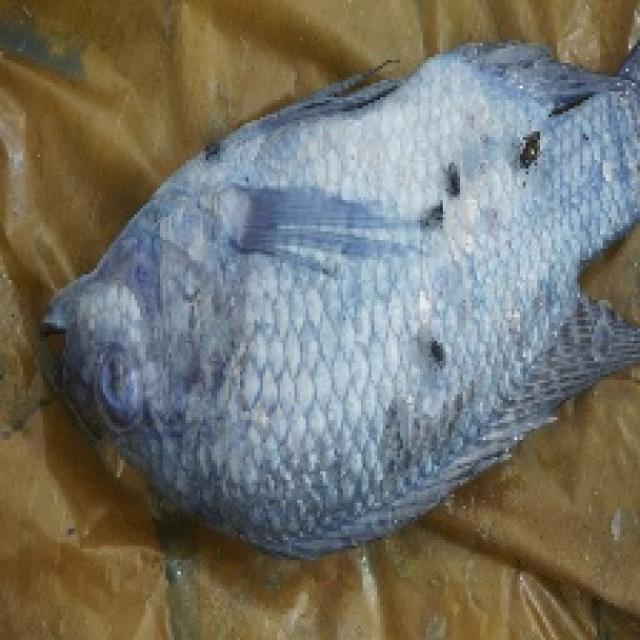Non-Fresh: (185, 157, 569, 396), (73, 326, 183, 436)
